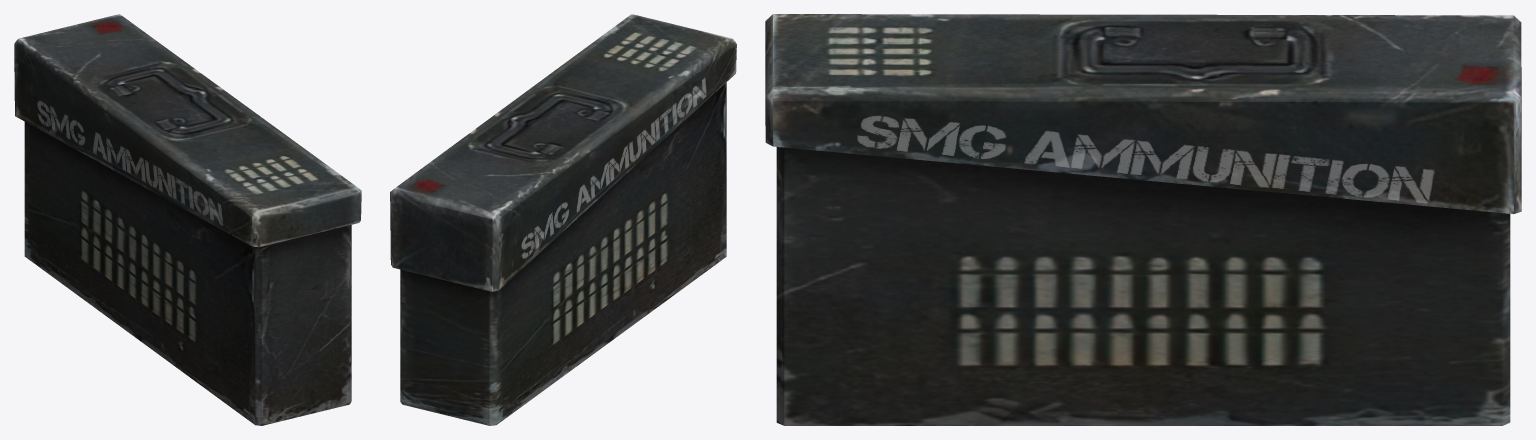
File: VV_smg.fbx
3 renders of one model, left to right at view 1: azimuth 30°, elevation 25°; view 2: azimuth 150°, elevation 25°; view 3: azimuth 270°, elevation 25°, orthographic. The views are drawn at different scales.
Visible parts, largest first — view 1: VV_smg; view 2: VV_smg; view 3: VV_smg.
Part boxes in pixels (box(x1,y1,x2,y2)): VV_smg: box(14, 14, 361, 425); VV_smg: box(390, 14, 736, 425); VV_smg: box(765, 14, 1521, 425).
Bounding box in the file's own units: 30.98 × 58.39 × 119.
1 material, 1 textured.
